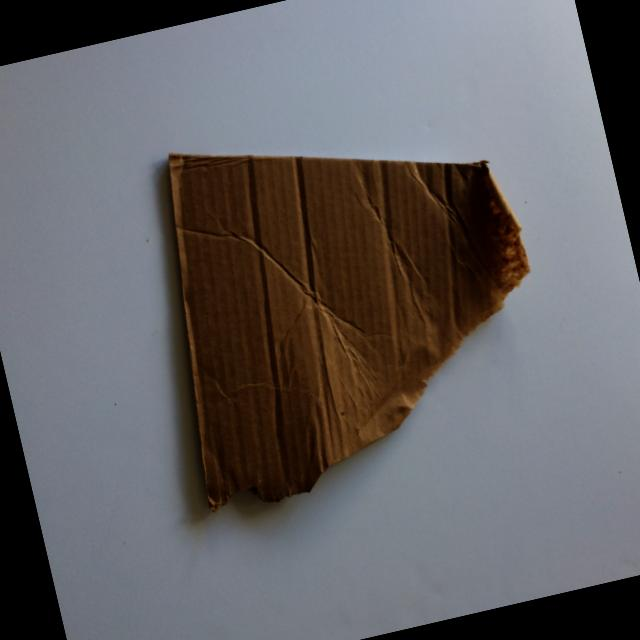Cardboard: (67, 65, 594, 576)
